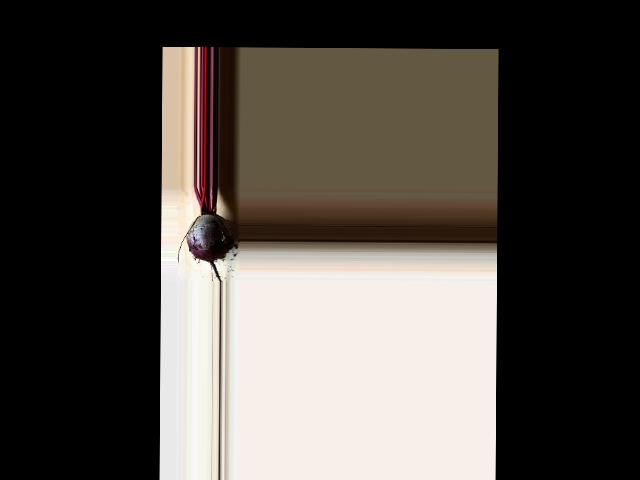beet: (177, 187, 233, 282)
